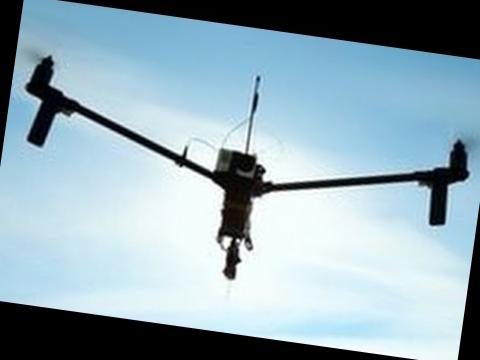drone: (1, 30, 480, 297)
